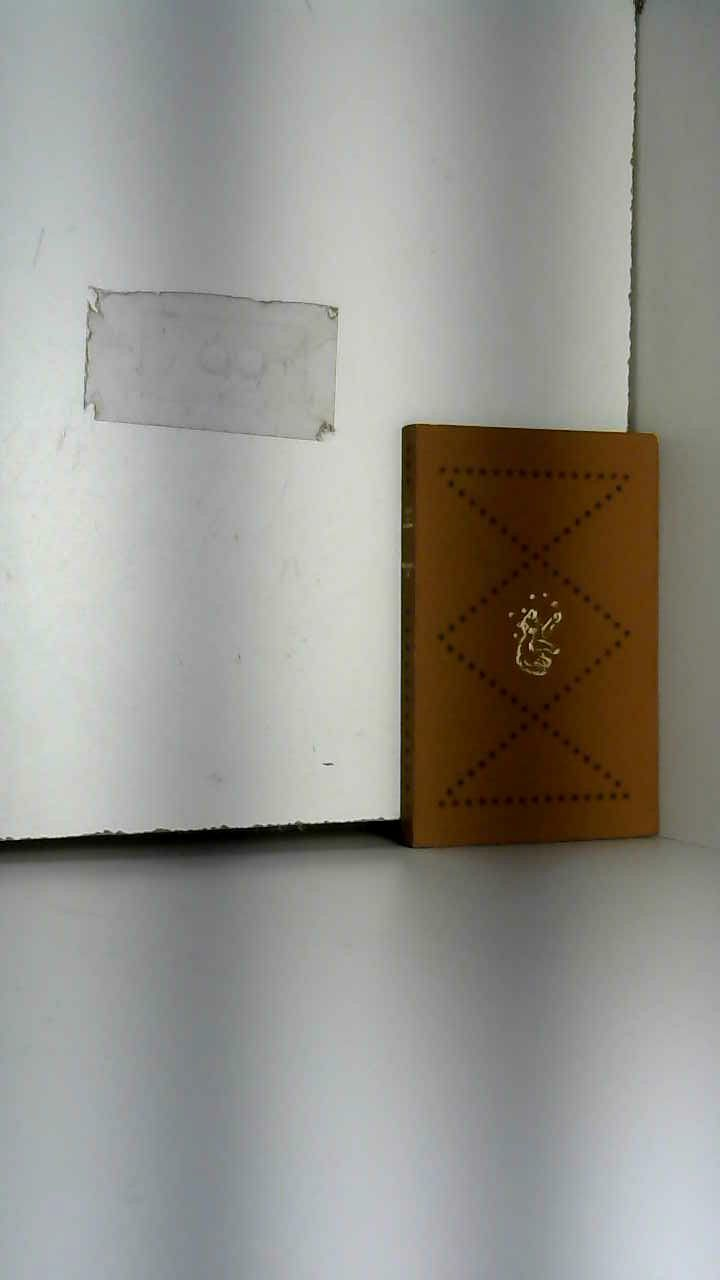book: (366, 387, 692, 885)
